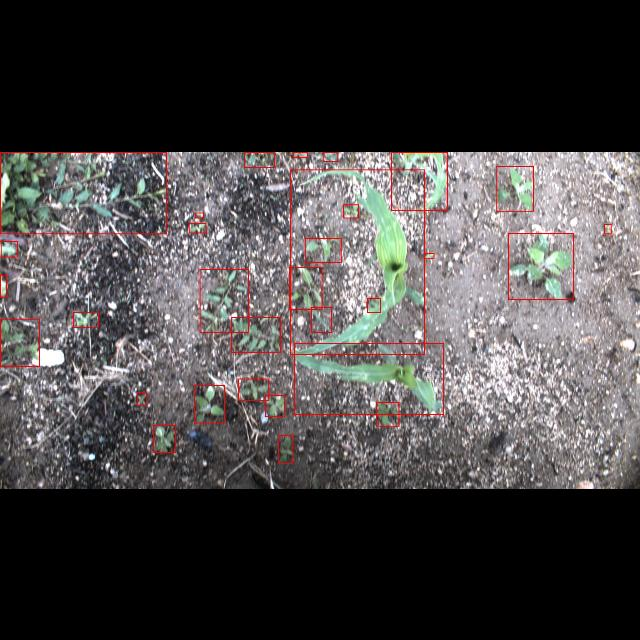crop: (291, 168, 425, 354), (294, 342, 444, 413), (391, 151, 447, 209)
weed: (0, 151, 166, 233), (508, 233, 574, 299), (200, 268, 248, 332), (1, 318, 40, 366), (232, 316, 280, 352), (496, 166, 534, 210), (290, 266, 322, 310), (194, 385, 224, 423), (305, 237, 341, 261), (239, 378, 269, 399), (154, 424, 176, 452), (377, 402, 399, 426), (311, 306, 331, 332), (245, 152, 275, 166), (266, 394, 284, 416), (278, 435, 292, 463), (74, 312, 98, 326), (1, 240, 18, 256), (188, 222, 206, 232), (344, 204, 358, 216), (368, 298, 380, 312), (0, 274, 6, 298), (324, 152, 338, 160), (138, 392, 146, 404), (604, 223, 612, 233), (424, 252, 434, 258), (293, 152, 307, 156), (195, 212, 203, 216)
